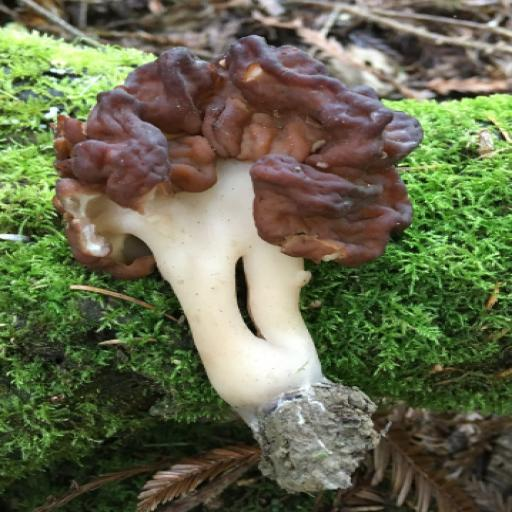False Morel: (0, 0, 512, 503)
